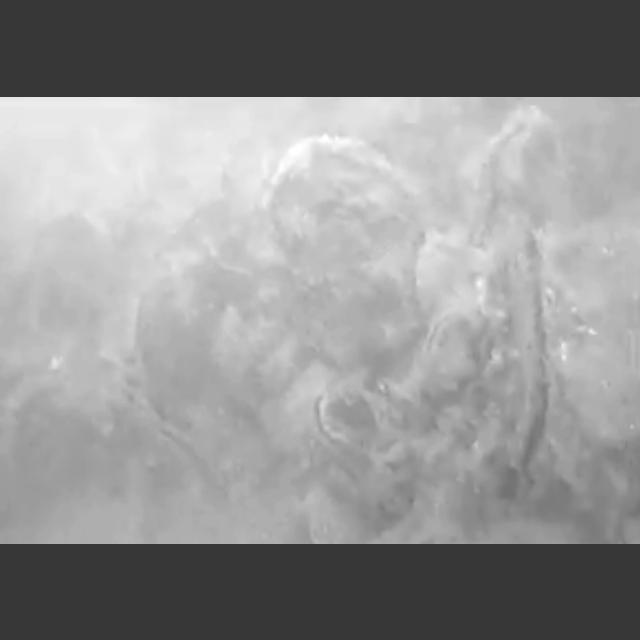Oyster-Closed: (247, 130, 429, 348)
Oyster-Open: (500, 222, 570, 490), (458, 101, 574, 245), (305, 383, 407, 479), (415, 302, 479, 406)
